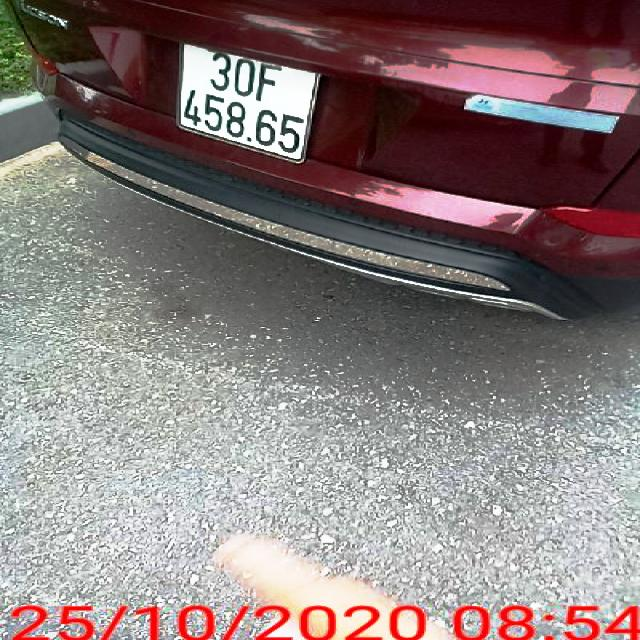license_plate: (181, 43, 320, 164)
